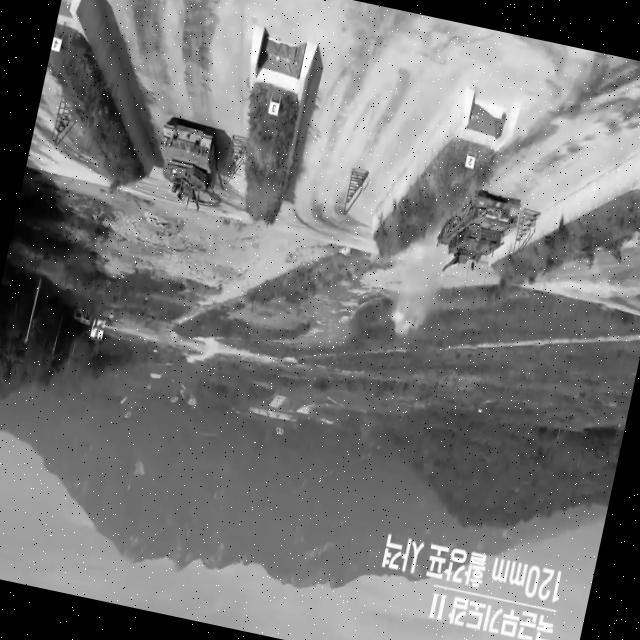korea tank: (428, 178, 522, 286)
